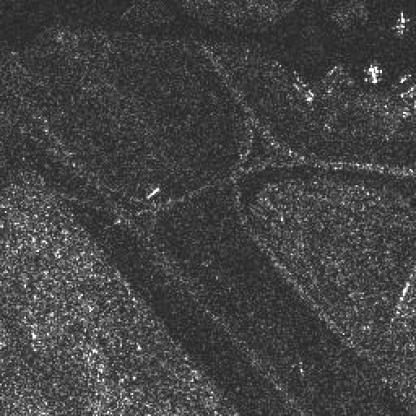airplane: (359, 59, 387, 86), (388, 10, 412, 37)
